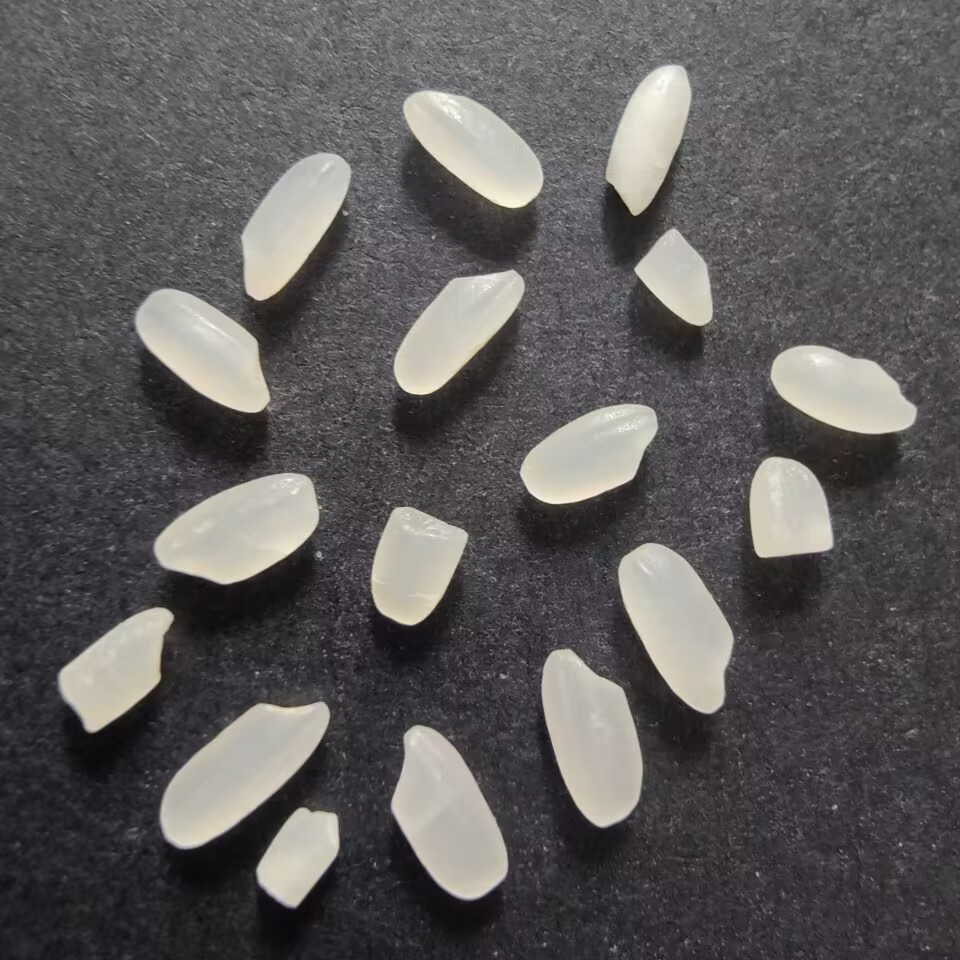broken: (49, 605, 178, 740), (361, 500, 476, 630), (249, 804, 346, 911), (748, 455, 834, 558), (632, 226, 717, 328)
rice: (157, 690, 334, 854), (386, 722, 514, 905), (616, 541, 742, 718), (536, 643, 651, 831), (148, 466, 319, 590), (126, 286, 273, 416), (235, 147, 355, 306), (399, 86, 551, 211), (388, 262, 527, 397), (764, 335, 922, 437), (518, 400, 665, 504), (603, 63, 692, 216)
